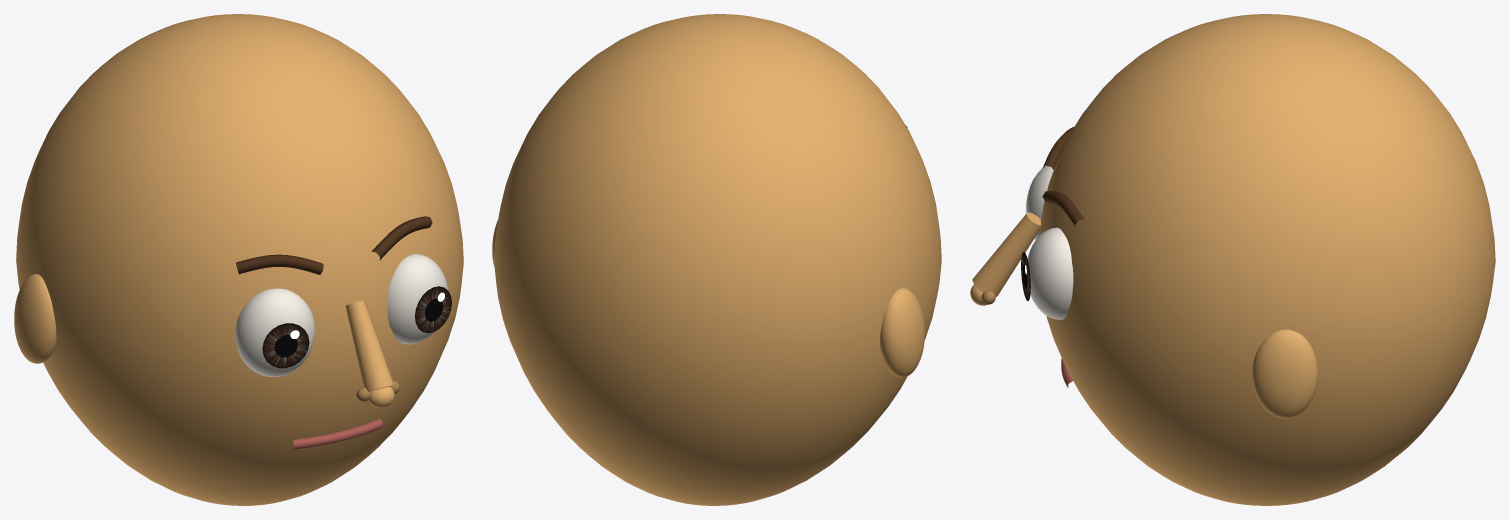
File: 04-pointu.glb
3 renders of one model, left to right at view 1: azimuth 30°, elevation 25°; view 2: azimuth 150°, elevation 25°; view 3: azimuth 270°, elevation 25°, orthographic.
Size of the model in its own units: 0.3087 by 0.321 by 0.3334.
9 materials, 1 textured.
